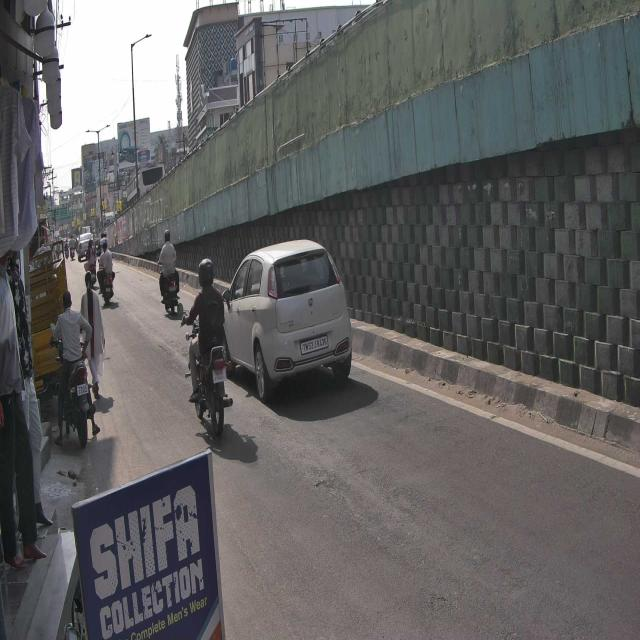single_rider: (177, 258, 235, 441)
